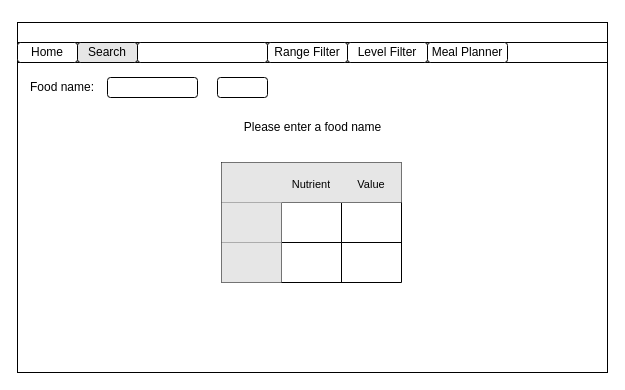
This 625x390 diagram has some shape labels left out. The box of each missing label's shape, as (x1, y1, x2, y2) in pixels:
Enter: (216, 76, 268, 98)
Nutrition Database: (16, 22, 608, 42)
Nutritional Breakdown: (136, 42, 268, 62)
